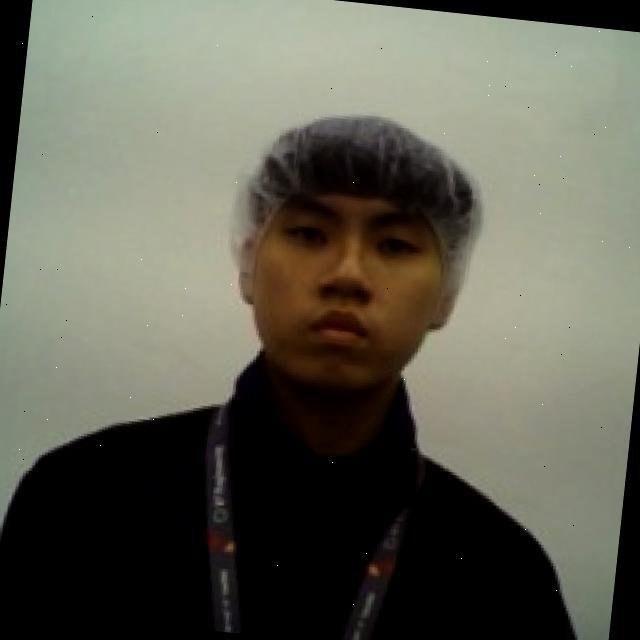gloves: (212, 96, 499, 334)
no_hairnet: (225, 223, 466, 412)
